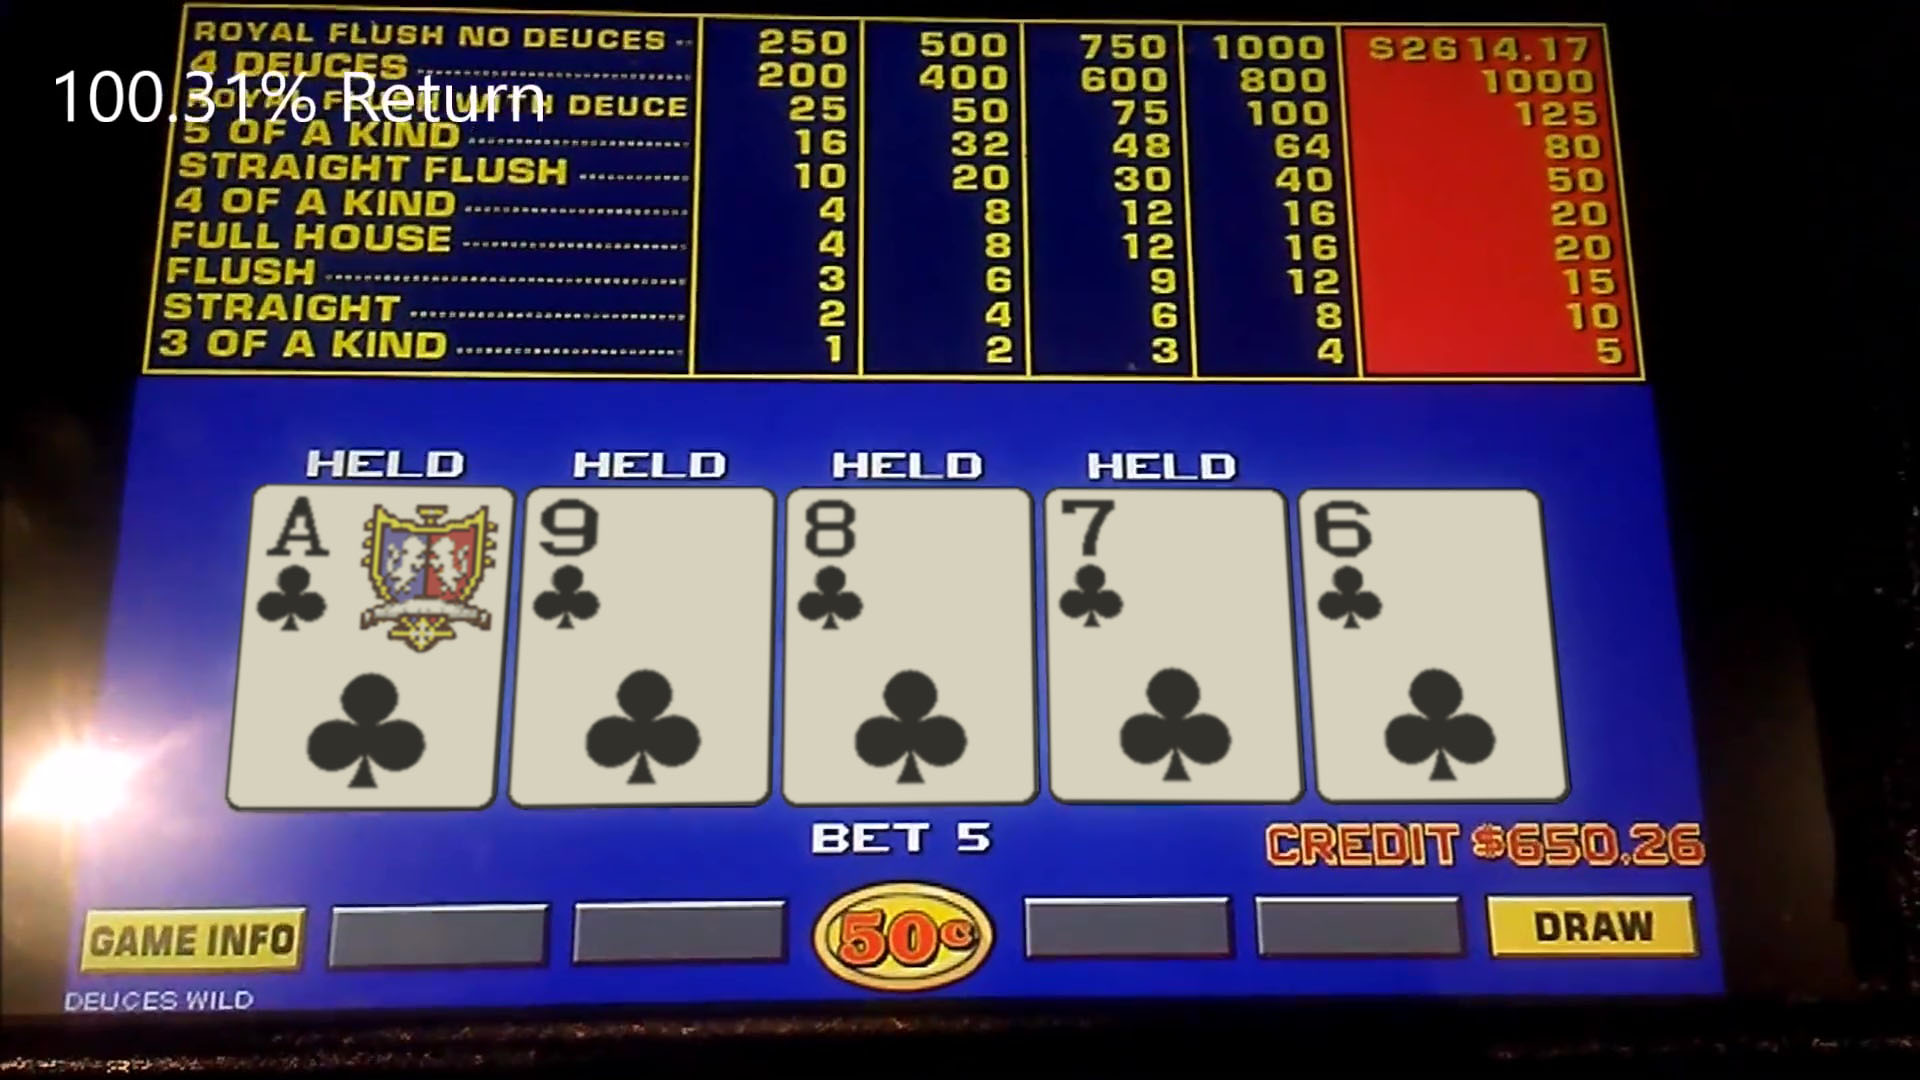C6: (1313, 492, 1539, 640)
C7: (1048, 492, 1287, 640)
C8: (786, 489, 1030, 644)
C9: (526, 489, 770, 642)
CA: (251, 487, 501, 644)
